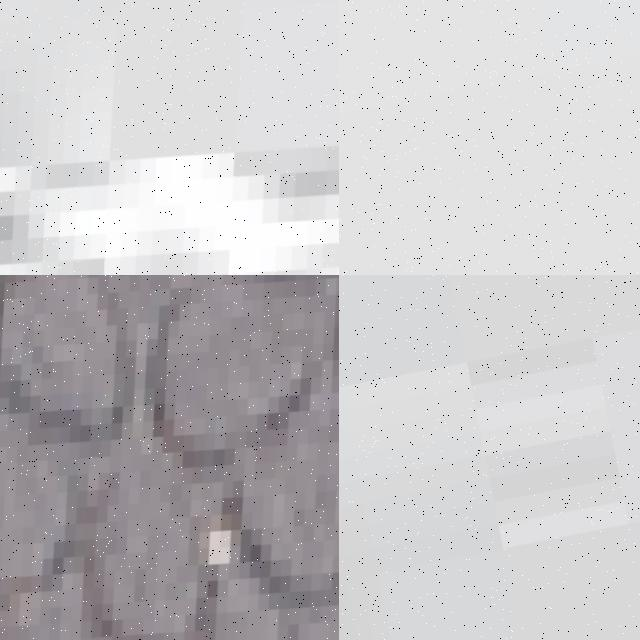0: (0, 0, 339, 275)
drone: (0, 275, 339, 640)
